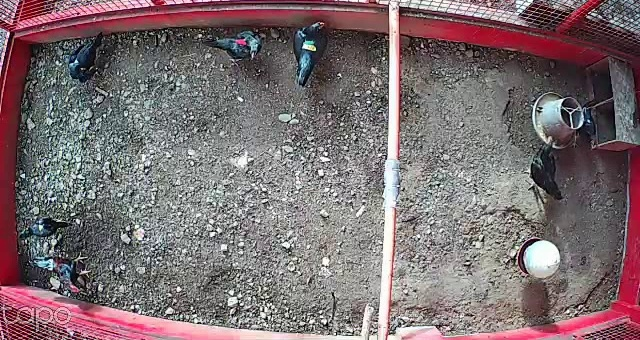Chicken: (288, 20, 337, 96), (198, 26, 266, 72), (523, 136, 569, 201), (65, 29, 111, 86), (568, 99, 604, 152), (16, 214, 77, 245)
Rooster: (32, 249, 94, 302)
Saddle_Color_Red: (236, 36, 249, 47)
Saddle_Color_Yellow: (39, 221, 44, 230)
Saddle_Color_YellowGreen: (300, 40, 319, 53)
